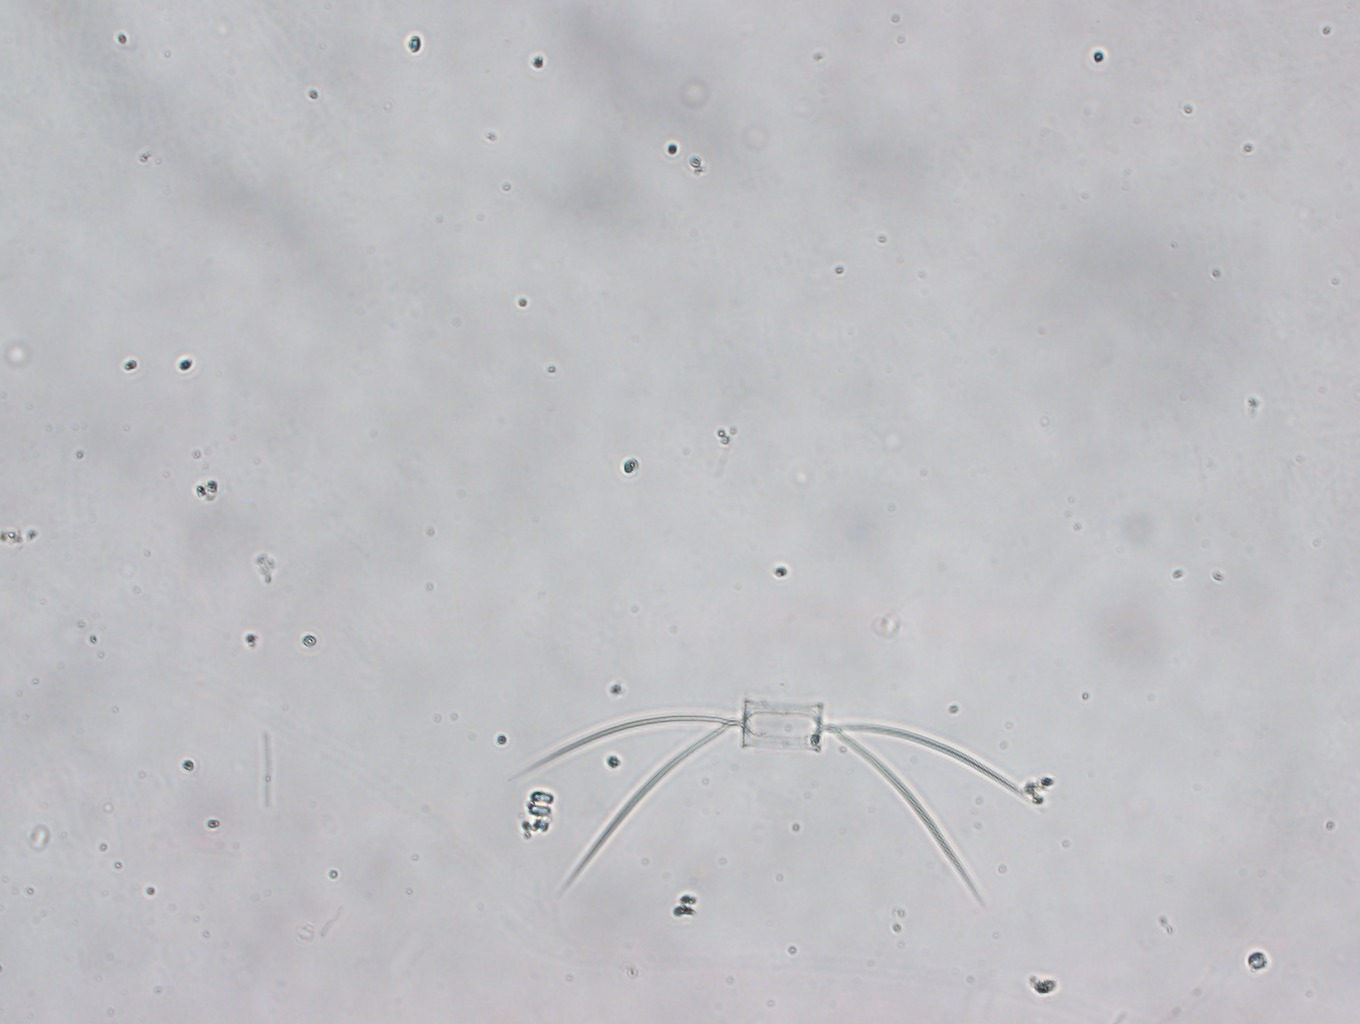chaetoceros: (509, 697, 1029, 904)
